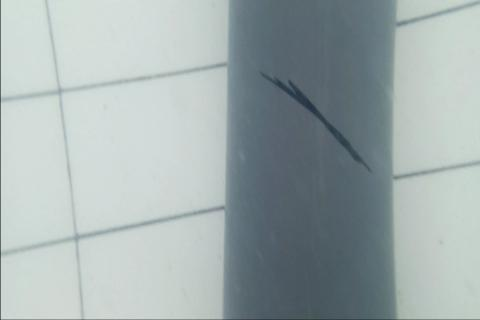keretakan: (258, 70, 374, 176)
